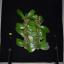leaf: (15, 27, 26, 37), (16, 38, 26, 47), (26, 29, 37, 37), (38, 26, 50, 33), (27, 20, 39, 27), (26, 9, 35, 18), (17, 10, 25, 20), (26, 42, 38, 48), (38, 44, 50, 50), (38, 39, 49, 45), (26, 35, 33, 44), (16, 23, 26, 29), (26, 32, 37, 37), (38, 30, 47, 36), (27, 47, 37, 52), (30, 14, 38, 20), (26, 25, 38, 29), (38, 16, 44, 22), (39, 35, 46, 39), (25, 12, 27, 18)
